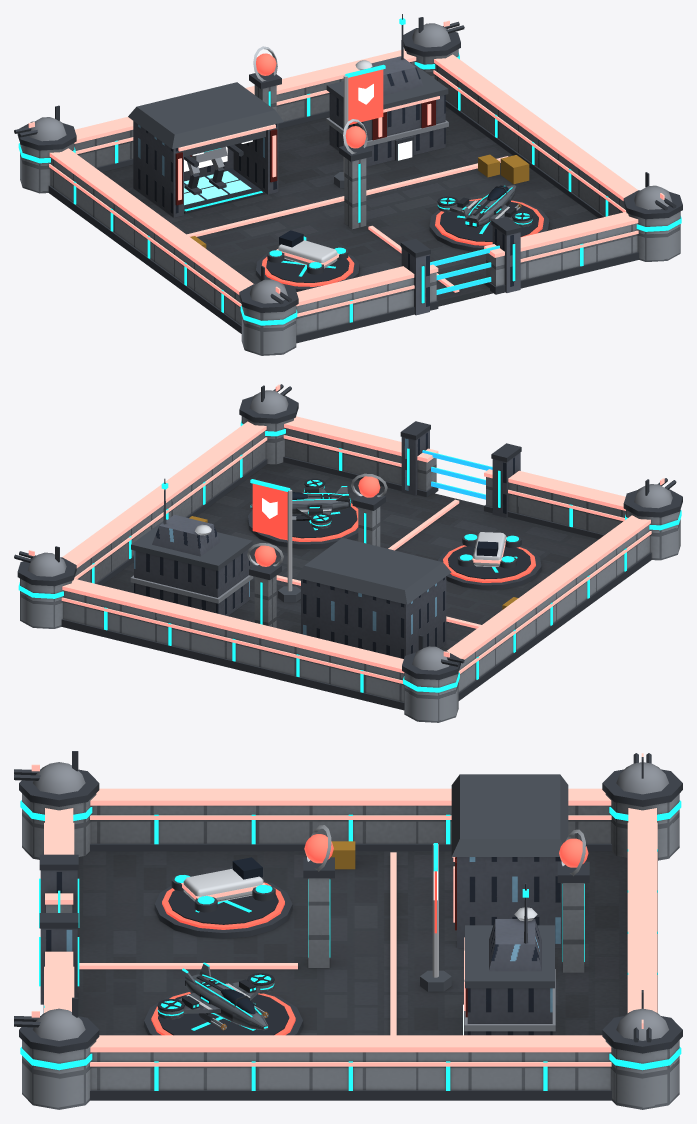
Rendered from military_base_scifi_red.glb.
3 views of the same model, one above another, from view 1: azimuth 30°, elevation 25°; view 2: azimuth 150°, elevation 25°; view 3: azimuth 270°, elevation 25° (orthographic). The views are drawn at different scales.
Visible parts, largest first — view 1: military_base_scifi_red; view 2: military_base_scifi_red; view 3: military_base_scifi_red.
Boxes of the visible parts, x1,y1,x2,y2 form: military_base_scifi_red: (14,14,682,355); military_base_scifi_red: (14,384,682,722); military_base_scifi_red: (14,751,682,1109).
Size of the model in its own units: 1.27 by 0.35 by 1.26.
12 materials, 1 textured.
